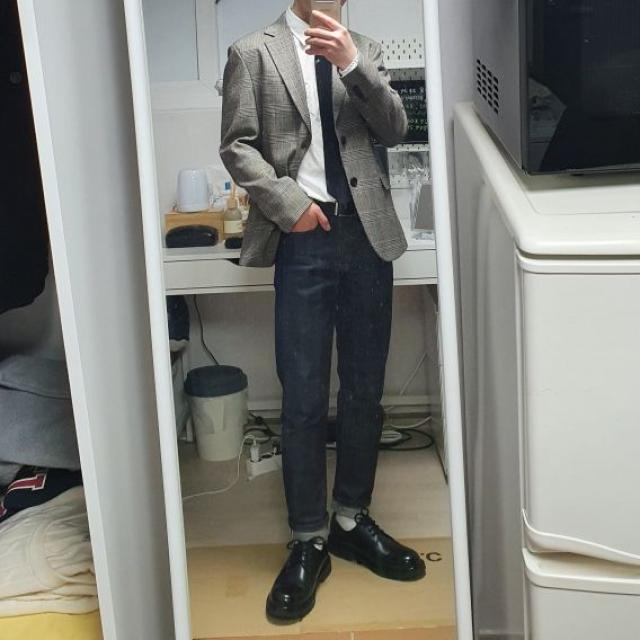blazer: (220, 6, 414, 271)
denimpants: (272, 202, 392, 534)
